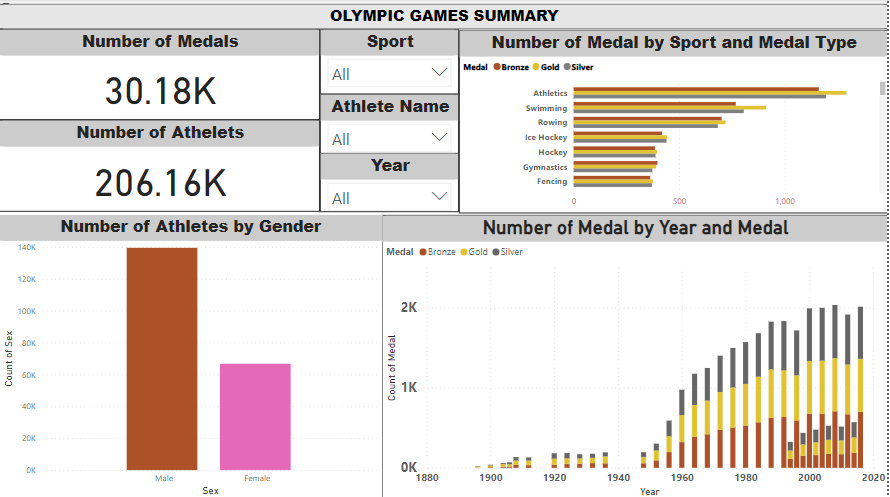

This screenshot's page, from the dashboard's own definition file:
{"tool":"powerbi","page":{"name":"Page 1","canvas":[1280,720],"ordinal":0},"visuals":[{"type":"lineStackedColumnComboChart","title":"Number of Medal by Year and Medal","fields":{"Category":["Olympics_Data.Year"],"Y":["CountNonNull(Olympics_Data.Medal)"],"Series":["Olympics_Data.Medal"]},"box":[551.5,309.6,728.6,410.4],"z":0},{"type":"slicer","title":"Athlete Name","fields":{"Values":["Olympics_Data.Name"]},"box":[462.2,135.4,200.2,90.7],"z":1000},{"type":"slicer","title":"Year","fields":{"Values":["Olympics_Data.Year"]},"box":[462.2,220.3,200.2,85],"z":2000},{"type":"slicer","title":"Sport","fields":{"Values":["Olympics_Data.Sport"]},"box":[462.2,41.8,200.2,93.6],"z":3000},{"type":"actionButton","box":[0,0,45.9,19.7],"z":4000},{"type":"clusteredBarChart","title":"Number of Medal by Sport and Medal Type","fields":{"Category":["Olympics_Data.Sport","Olympics_Data.Medal"],"Y":["CountNonNull(Olympics_Data.Medal)"],"Series":["Olympics_Data.Medal"]},"box":[662.4,43.2,617.8,263.5],"z":5000},{"type":"card","title":"Number of Medals","fields":{"Values":["Olympics_Data.Measure"]},"box":[0,41.8,462.2,131],"z":6000},{"type":"card","title":"Number of Athelets","fields":{"Values":["Country_Names.Measure 2"]},"box":[0,172.8,462.2,132.5],"z":7000},{"type":"lineStackedColumnComboChart","title":"Number of Athletes by Gender","fields":{"Category":["Olympics_Data.Sex"],"Y":["CountNonNull(Olympics_Data.Sex)"]},"box":[0,309.6,551.5,410.4],"z":8000},{"type":"slicer","title":"OLYMPIC GAMES SUMMARY","fields":{"Values":["Olympics_Data.Age"]},"box":[0,5.8,1280.2,36],"z":9000}]}

Visuals, with their boxes in screenshot pixels (x1, y1, x2, y2), scaled from the page's 1280x720 canvas onto the 890x497 screenshot:
"Number of Medal by Year and Medal" lineStackedColumnComboChart: 383,214,889,496
"Athlete Name" slicer: 321,93,461,156
"Year" slicer: 321,152,461,211
"Sport" slicer: 321,29,461,93
actionButton: 0,0,32,14
"Number of Medal by Sport and Medal Type" clusteredBarChart: 461,30,889,212
"Number of Medals" card: 0,29,321,119
"Number of Athelets" card: 0,119,321,211
"Number of Athletes by Gender" lineStackedColumnComboChart: 0,214,383,496
"OLYMPIC GAMES SUMMARY" slicer: 0,4,889,29
